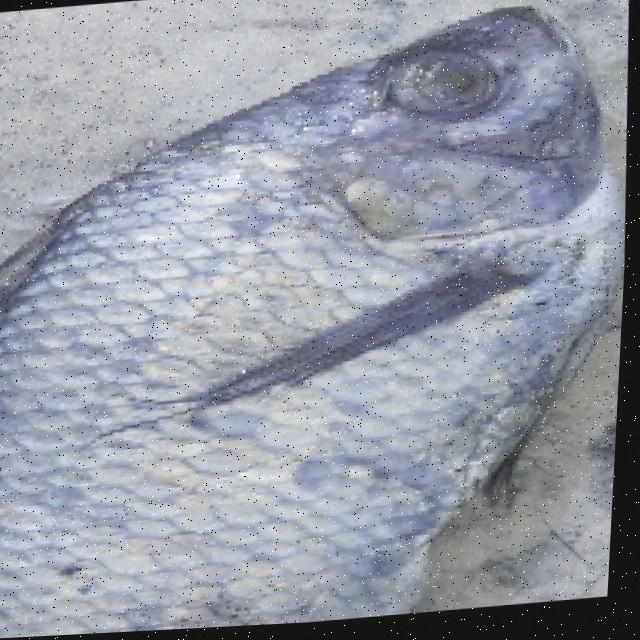Non-Fresh: (3, 0, 640, 639), (361, 33, 513, 157)
